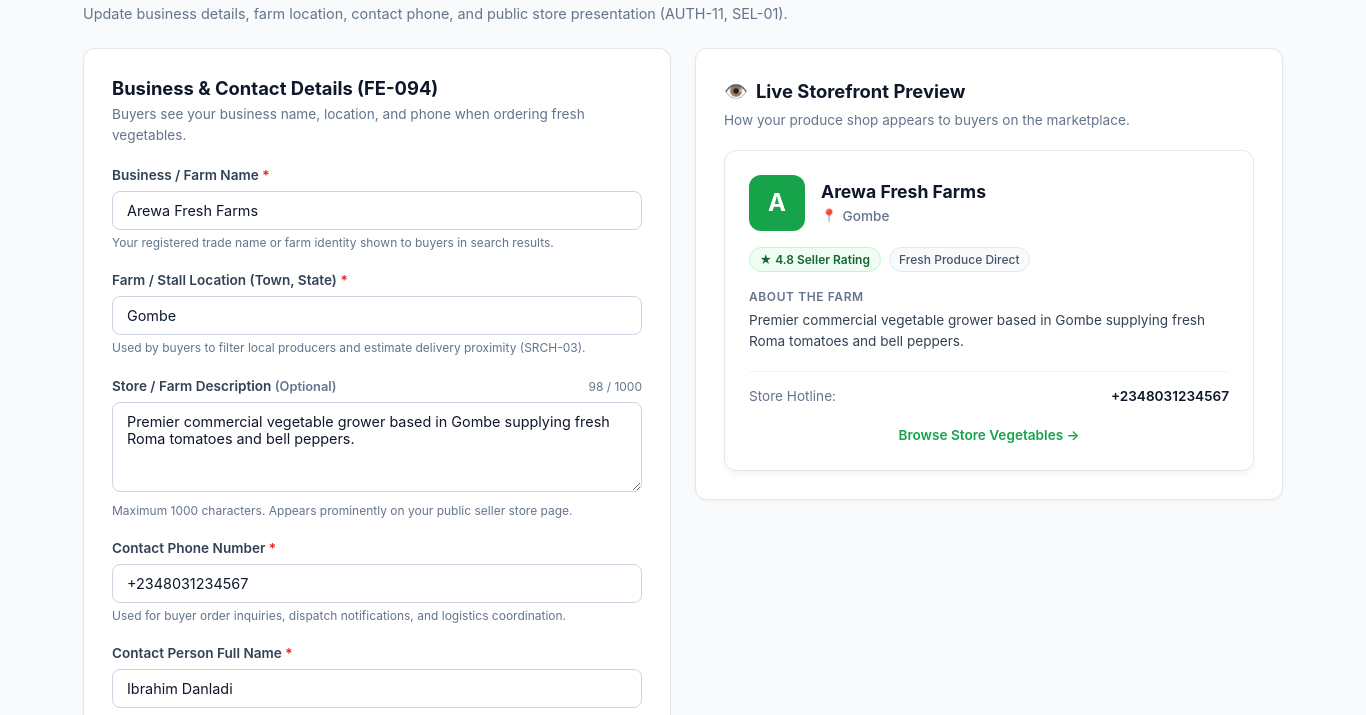
FE-094 / AUTH-11: Seller Profile Edit › 2. Client-Side Validation for Edit Fields (FE-094, AUTH-11) › validates contact person name (required, min 2 chars)
Clear the field with test id "profile-name-input". click: (377, 689)
box: [112,670,642,708]
(page scrolled)
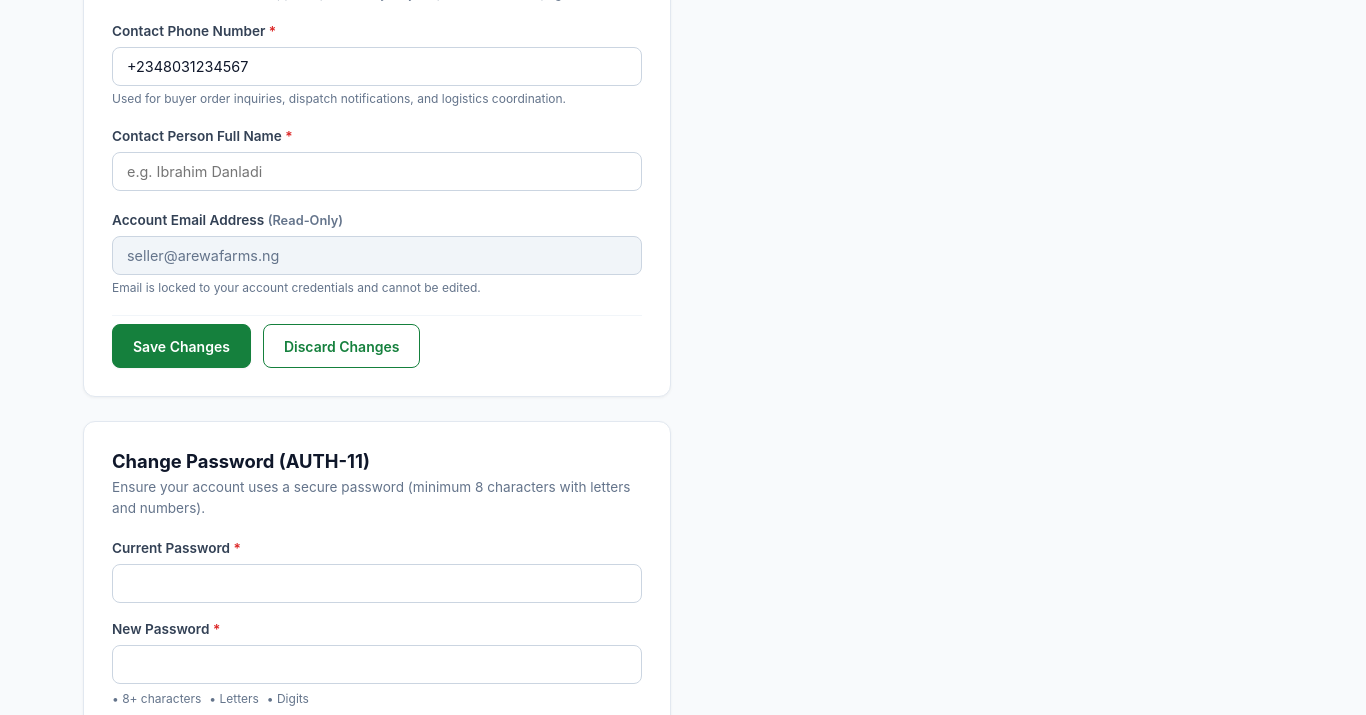
Click the button with test id "profile-save-btn". click: click(181, 346)
box: [112,324,251,368]
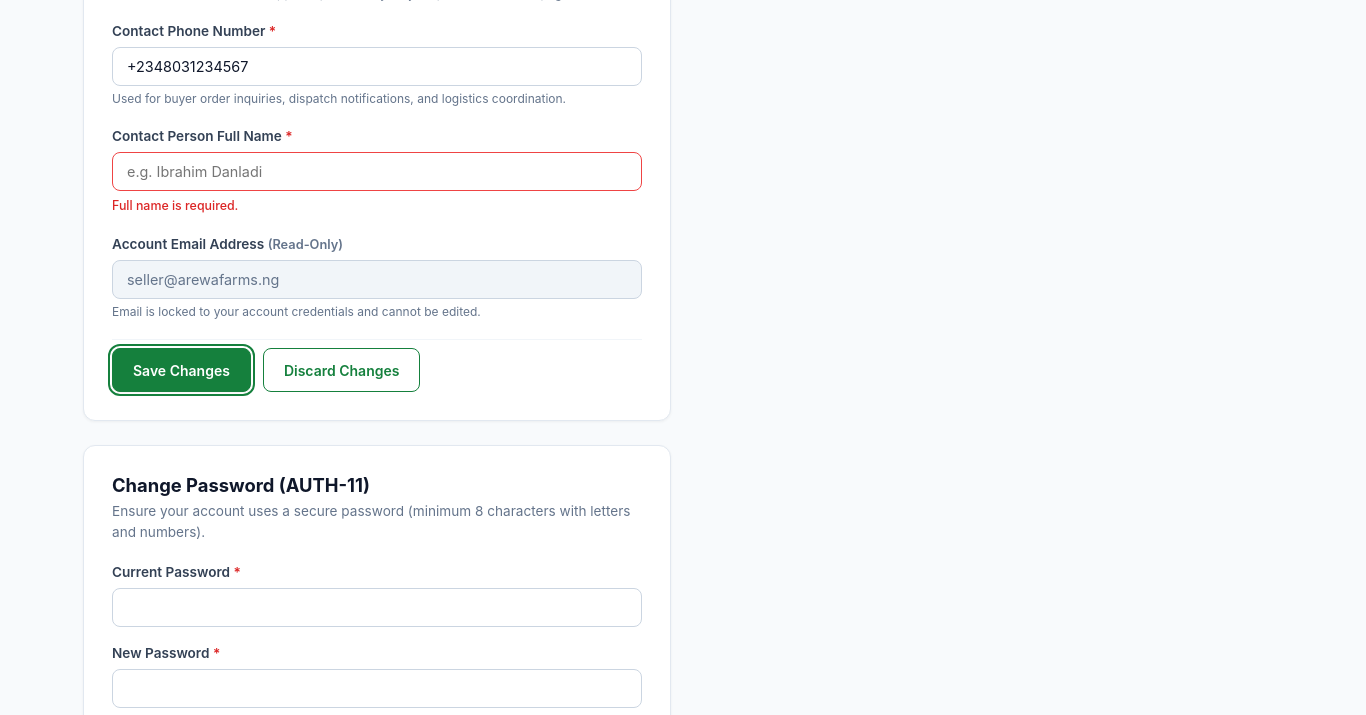
Expected: the message with test id "profile-name-error" shows "Full name is required", [112,198,238,213]
